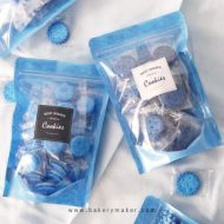snack: (83, 5, 224, 179), (0, 49, 121, 213), (165, 160, 218, 203)
